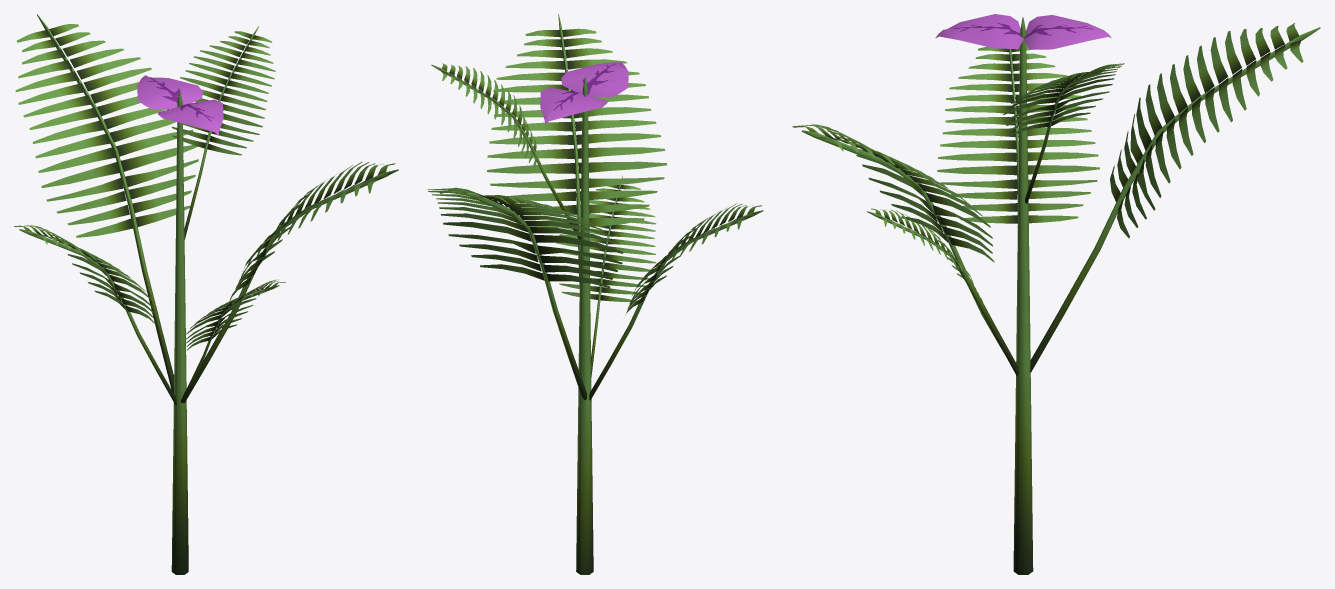
Rendered from Dalechampia spp..fbx.
The picture shows the model from 3 angles, left to right: view 1: azimuth 30°, elevation 25°; view 2: azimuth 150°, elevation 25°; view 3: azimuth 270°, elevation 25°; orthographic projection. The views are drawn at different scales.
Visible parts, largest first — view 1: base stem.025; view 2: base stem.025; view 3: base stem.025.
Boxes of the visible parts, x1,y1,x2,y2 form: base stem.025: (14,14,398,574); base stem.025: (427,14,763,574); base stem.025: (792,14,1320,574).
Bounding box in the file's own units: 1037 × 1604 × 1358.
